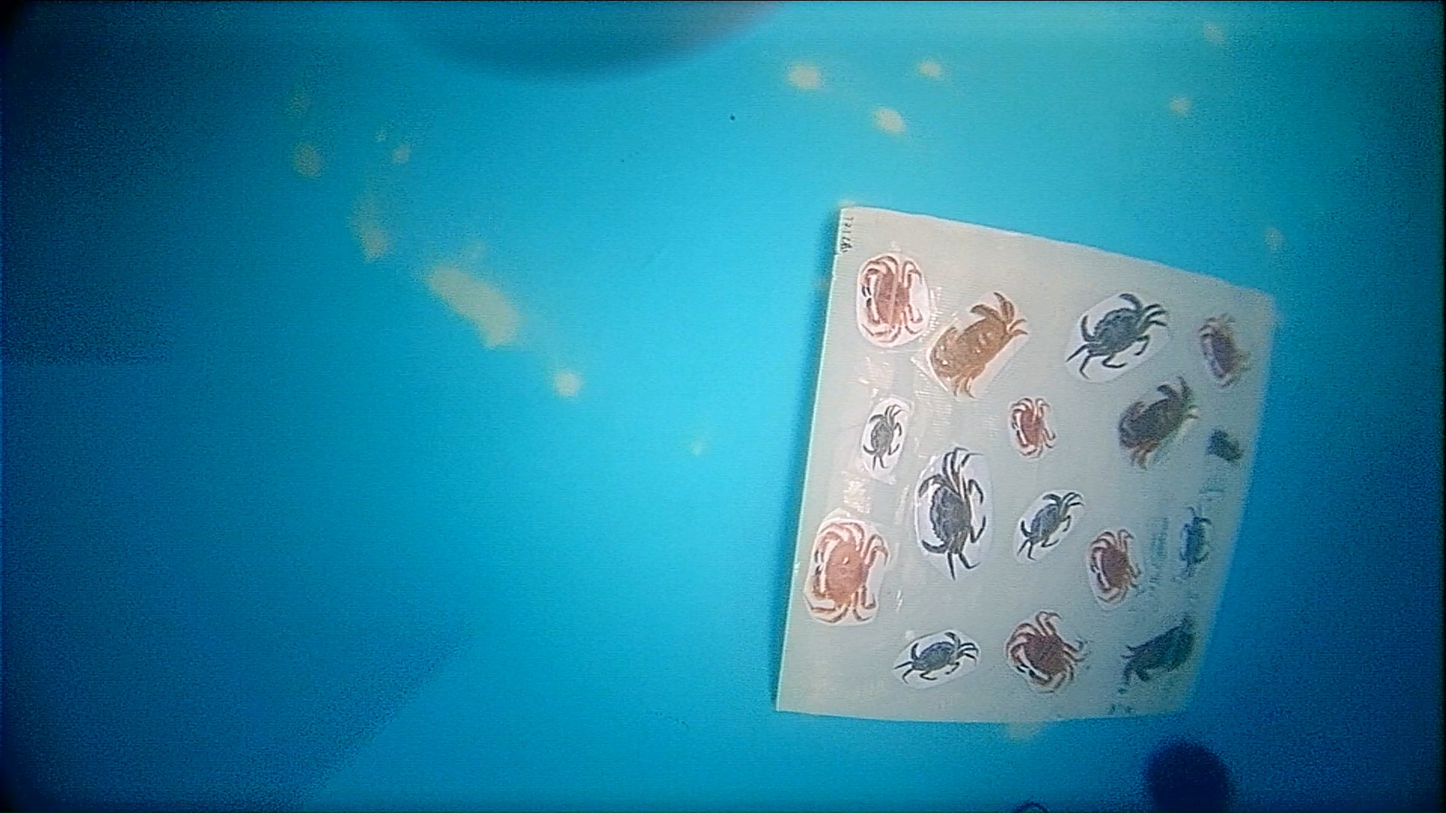GreenCrab: (918, 447, 986, 578), (1066, 293, 1167, 374), (1017, 492, 1082, 559), (895, 632, 978, 680)
